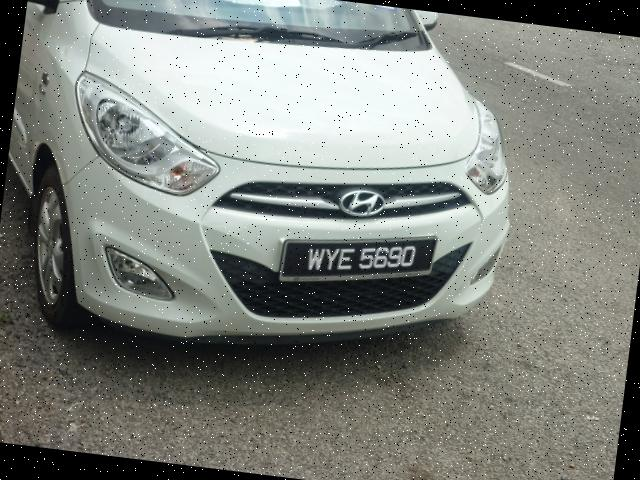License_Plate: (293, 222, 433, 290)
car: (1, 1, 541, 395)
